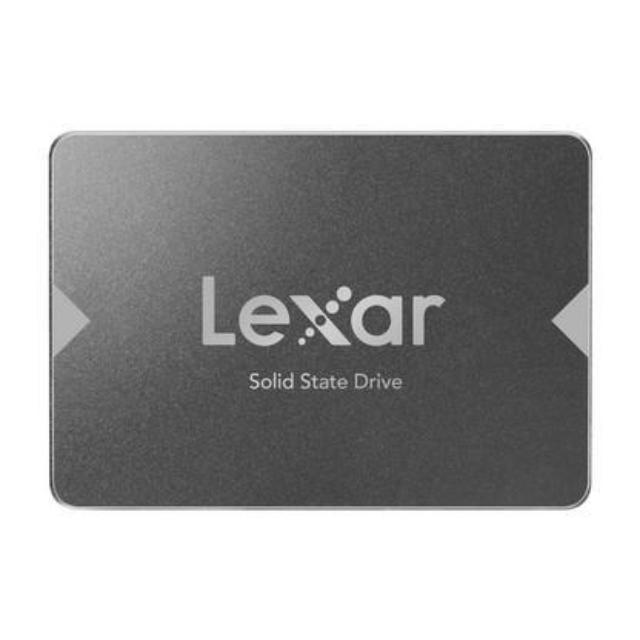DISK: (44, 124, 598, 526)
